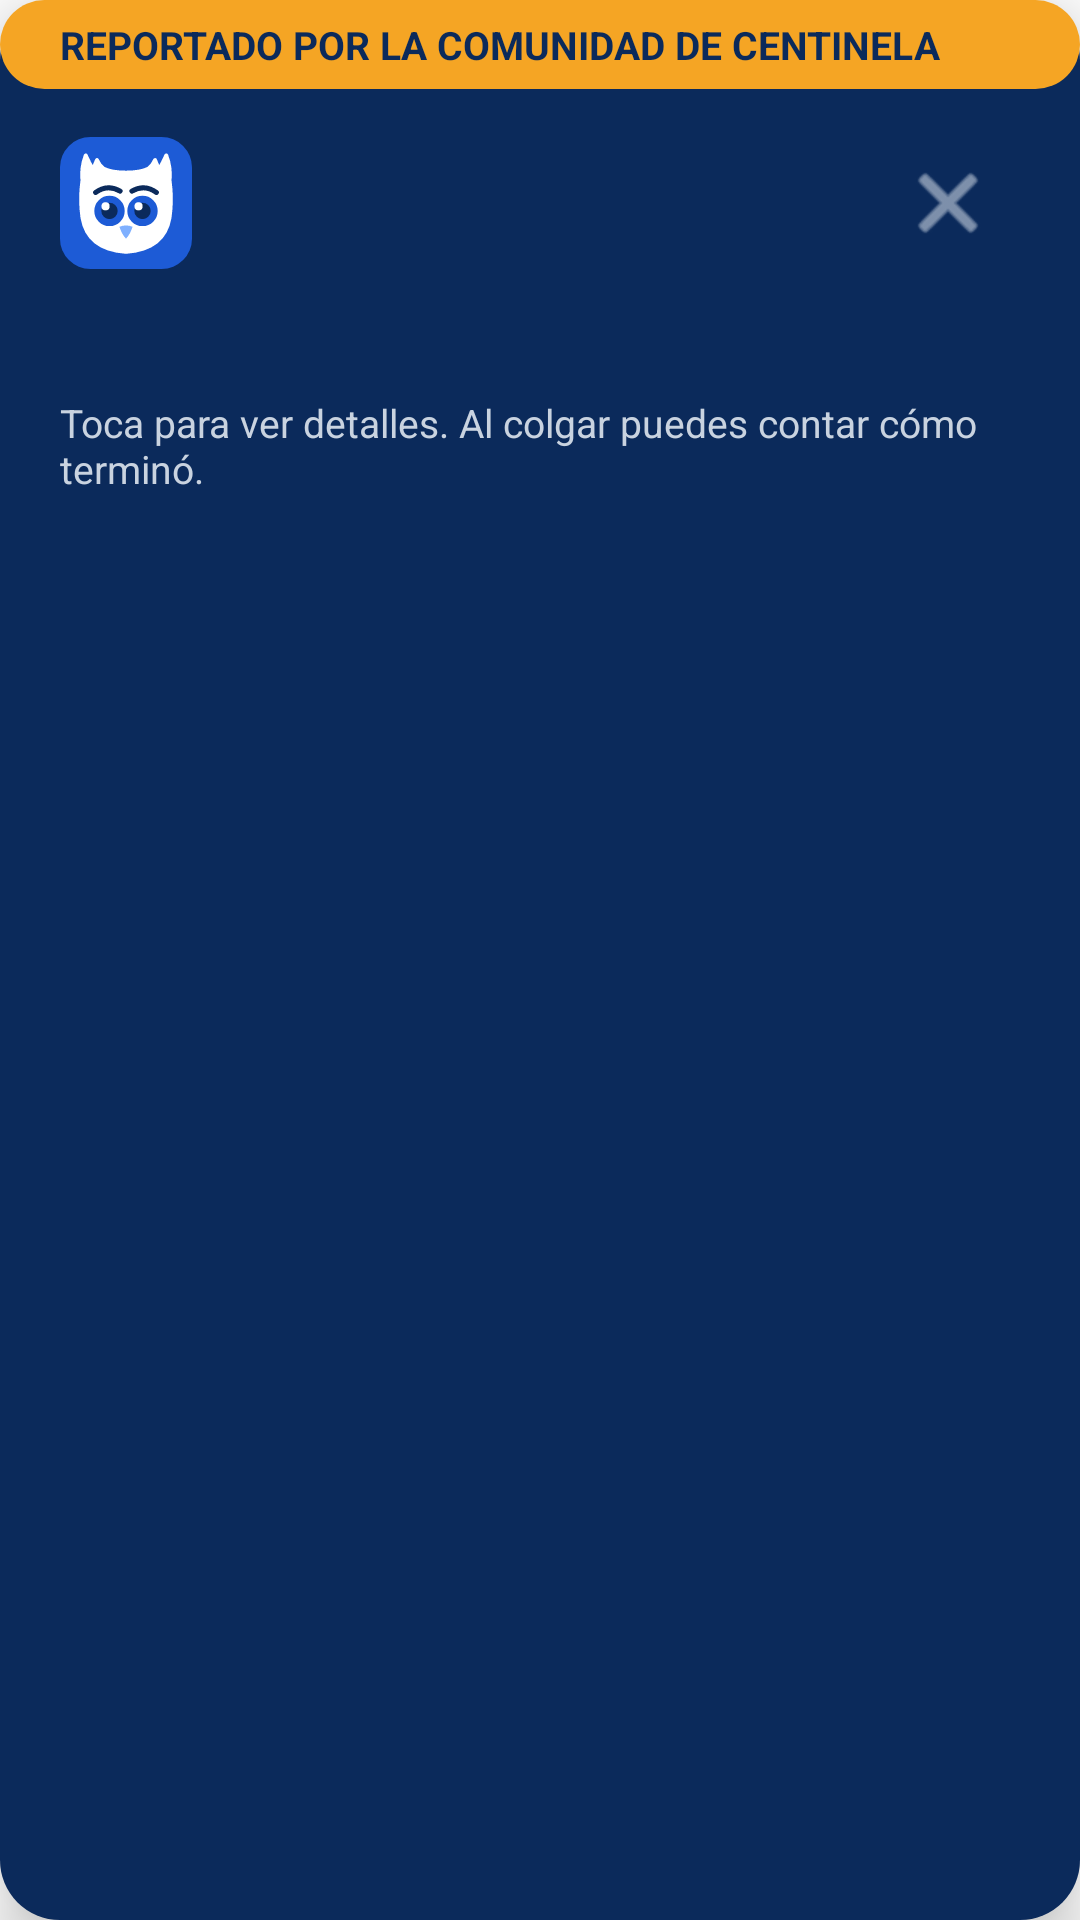

Point at icon controls on the screen. Image size 1080 x 1920, points as (x,y).
buho tarjeta: (126,203)
Cerrar aviso: (948,203)
